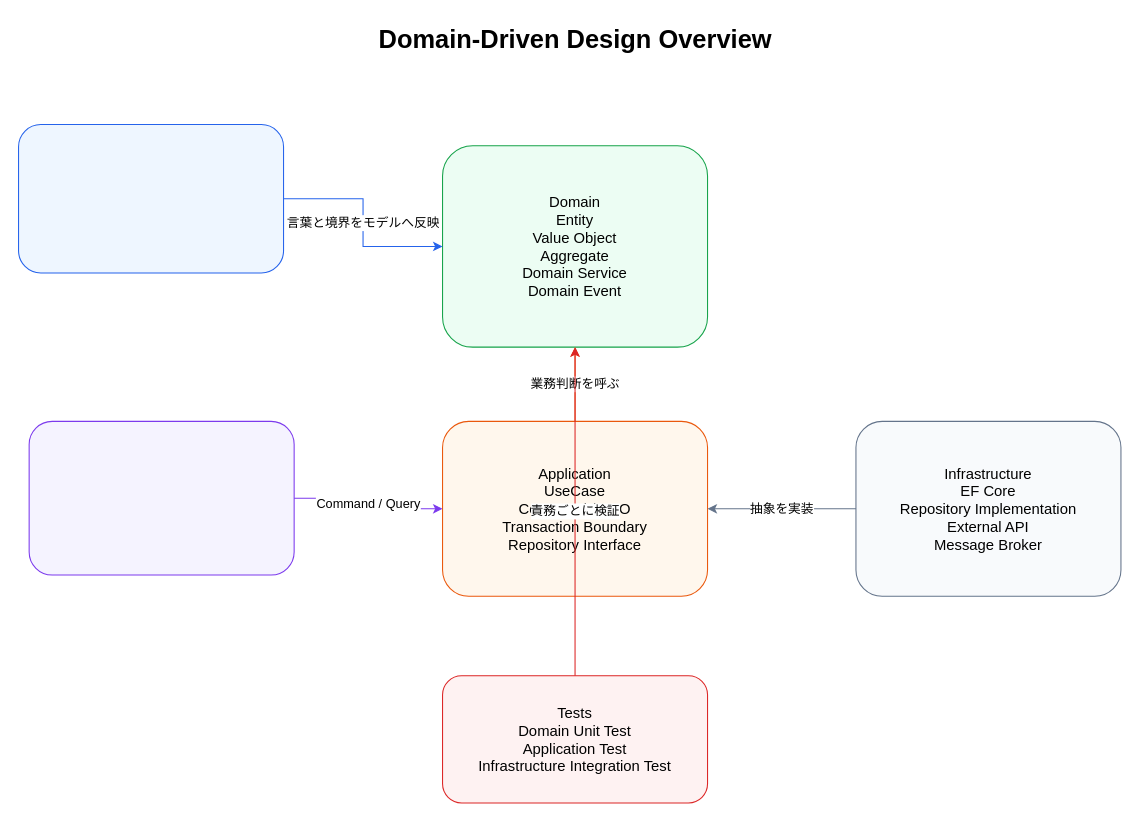
Image size: 1139x821. Some labels were removed from this diagram. The shapes that lost their labels are listed below. From the top down, each one's centre as x and y in pixels, then its label:
At [150,198]: "戦略的設計 Ubiquitous Language Bounded Context Context Map".
At [161,497]: "Presentation ASP.NET Core API Controller / Endpoint Request / Response".
